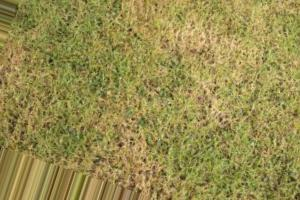patch: (19, 99, 115, 147), (129, 115, 184, 179), (156, 59, 219, 102), (223, 48, 273, 102), (101, 46, 153, 92), (27, 62, 96, 93), (160, 15, 212, 51), (99, 14, 153, 38), (204, 120, 245, 151), (34, 34, 82, 53), (199, 161, 222, 194), (5, 49, 20, 86), (261, 129, 282, 152)
